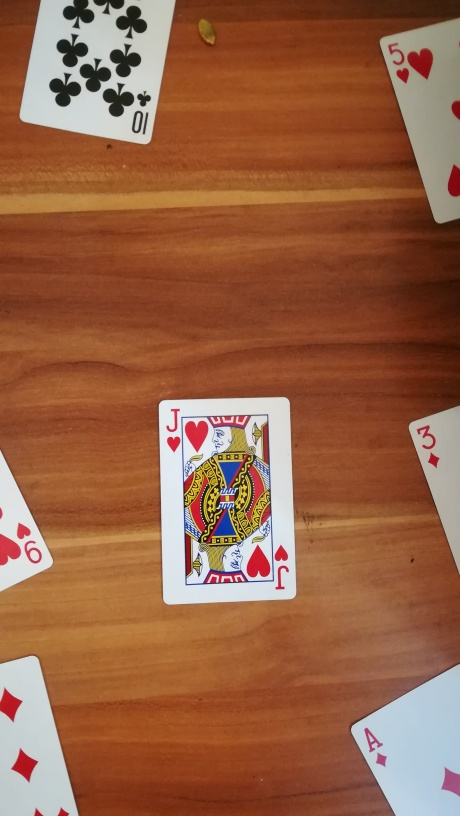fk a: (332, 664, 460, 811)
hx 5: (374, 18, 460, 225)
hx j: (156, 388, 318, 632)
mh 10: (16, 1, 192, 150)
